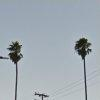Palm tree: (67, 30, 98, 91)
